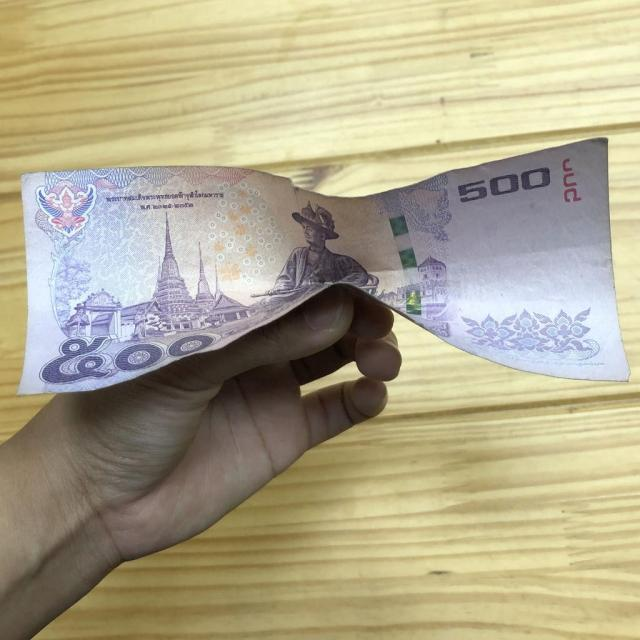THAI500: (18, 139, 631, 398)
